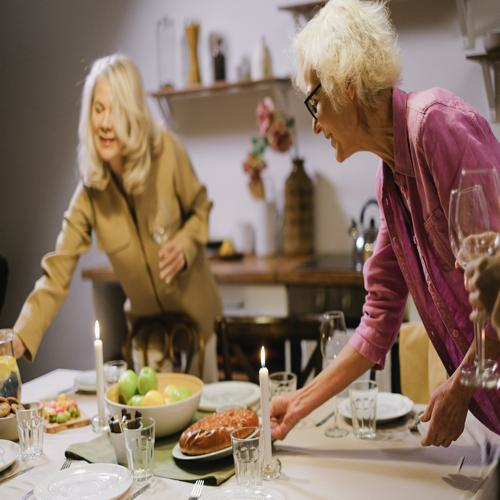copa: (319, 309, 350, 441)
vaso: (229, 428, 268, 488), (117, 417, 153, 479), (14, 401, 47, 460), (352, 380, 380, 442), (264, 369, 300, 405)
